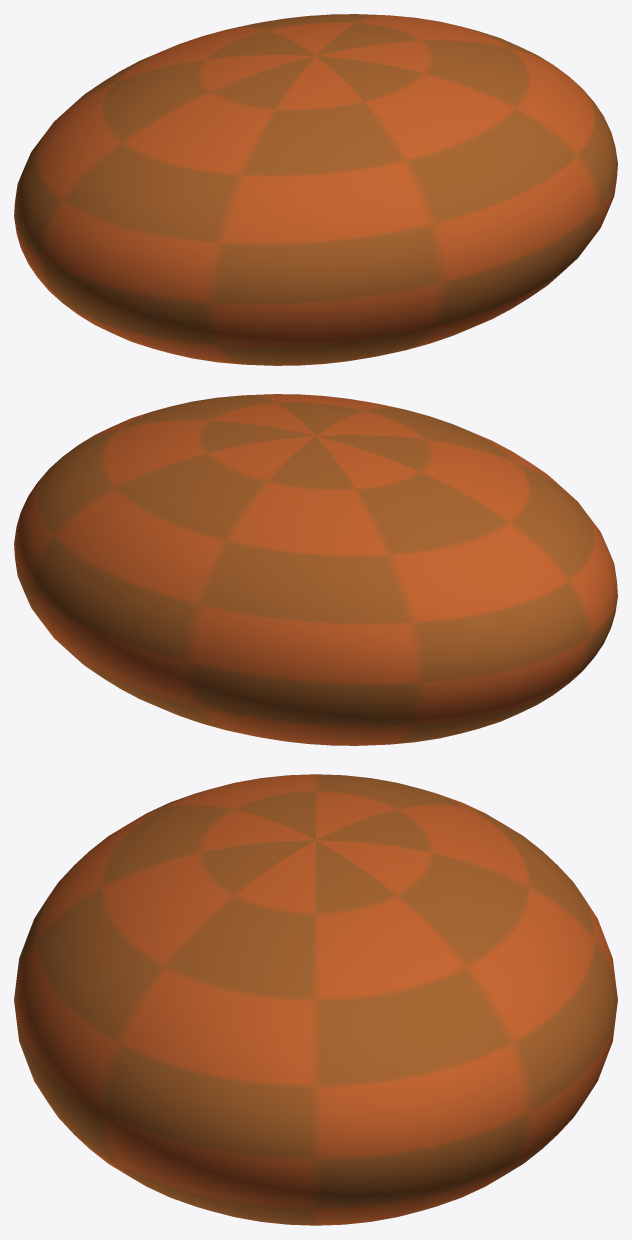
File: pbr_textures_embedded.gltf
3 renders of one model, top to bottom at view 1: azimuth 30°, elevation 25°; view 2: azimuth 150°, elevation 25°; view 3: azimuth 270°, elevation 25°, orthographic. The views are drawn at different scales.
Size of the model in its own units: 3 by 1.4 by 2.4.
1 material, 1 textured.
